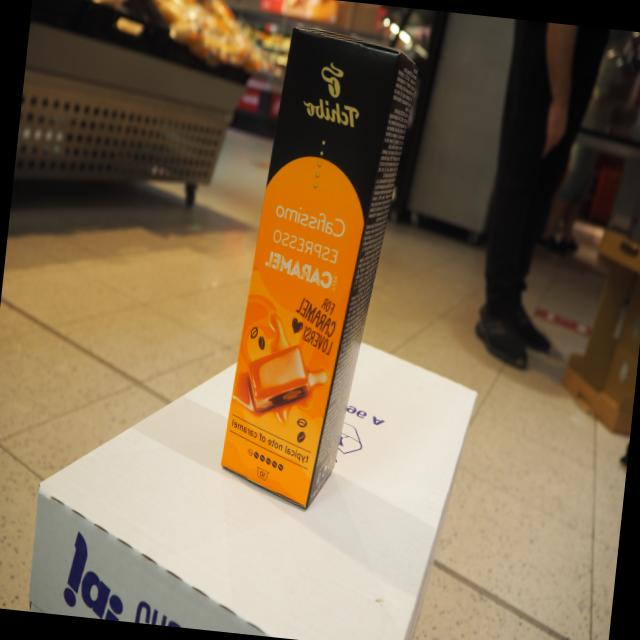Simo Es Caramel: (216, 20, 406, 515)
